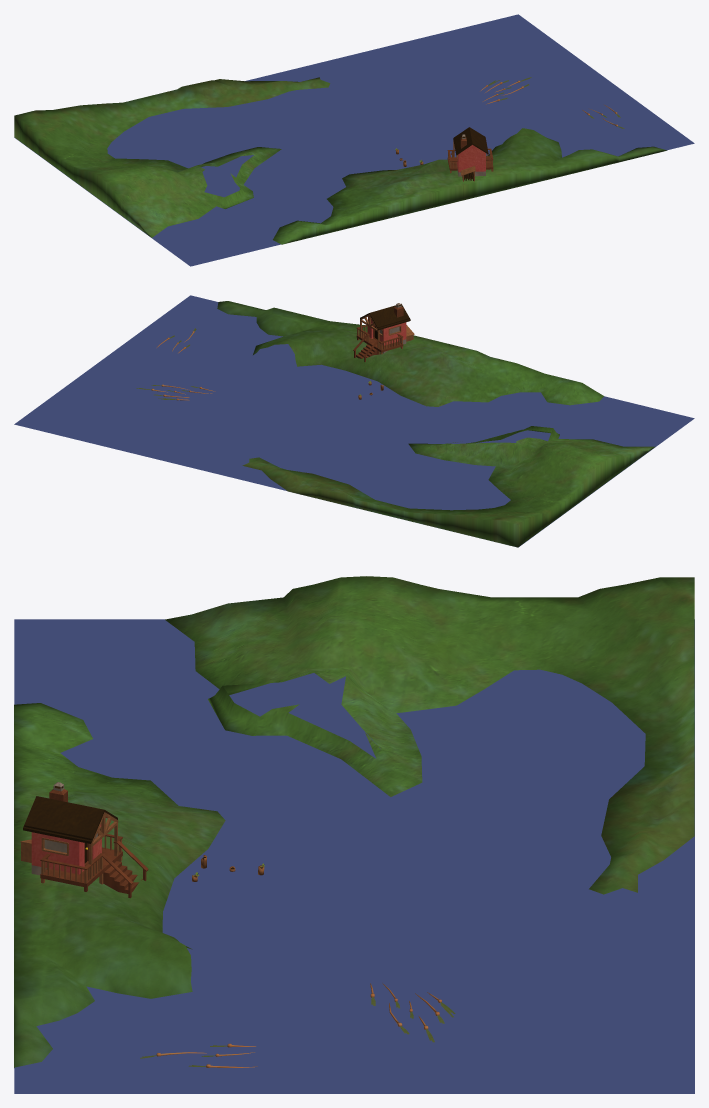
The picture shows the model from 3 angles, top to bottom: view 1: azimuth 30°, elevation 25°; view 2: azimuth 150°, elevation 25°; view 3: azimuth 270°, elevation 25°; orthographic projection. The views are drawn at different scales.
Parts seen in each view (by area): view 1: Part1; view 2: Part1; view 3: Part1.
Boxes of the visible parts, bbox=[...] form: Part1: bbox=[14, 14, 694, 266]; Part1: bbox=[14, 295, 694, 547]; Part1: bbox=[14, 576, 694, 1093].
Size of the model in its own units: 3.3 by 0.3432 by 2.
1 material, 1 textured.
